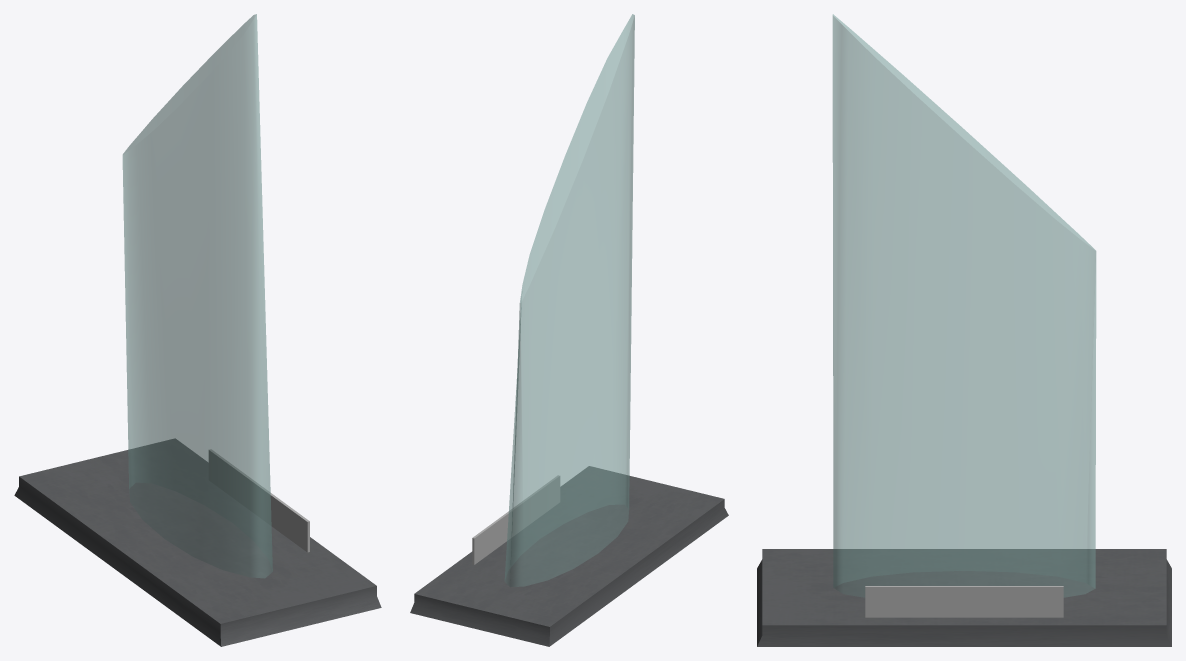
Rendered from Trophy.fbx.
3 renders of one model, left to right at view 1: azimuth 30°, elevation 25°; view 2: azimuth 150°, elevation 25°; view 3: azimuth 270°, elevation 25°, orthographic. The views are drawn at different scales.
Parts seen in each view (by area): view 1: pCylinder1, pCube1, pCube2; view 2: pCylinder1, pCube1, pCube2; view 3: pCylinder1, pCube1, pCube2.
Part boxes in pixels (x1,y1,x2,y2): pCylinder1: (122, 14, 272, 578); pCube1: (14, 438, 381, 646); pCube2: (209, 449, 309, 552); pCylinder1: (504, 14, 634, 586); pCube1: (410, 466, 728, 646); pCube2: (472, 475, 559, 564); pCylinder1: (832, 14, 1096, 597); pCube1: (757, 549, 1171, 646); pCube2: (865, 586, 1063, 617).
Bounding box in the file's own units: 0.098 × 0.343 × 0.2189.
